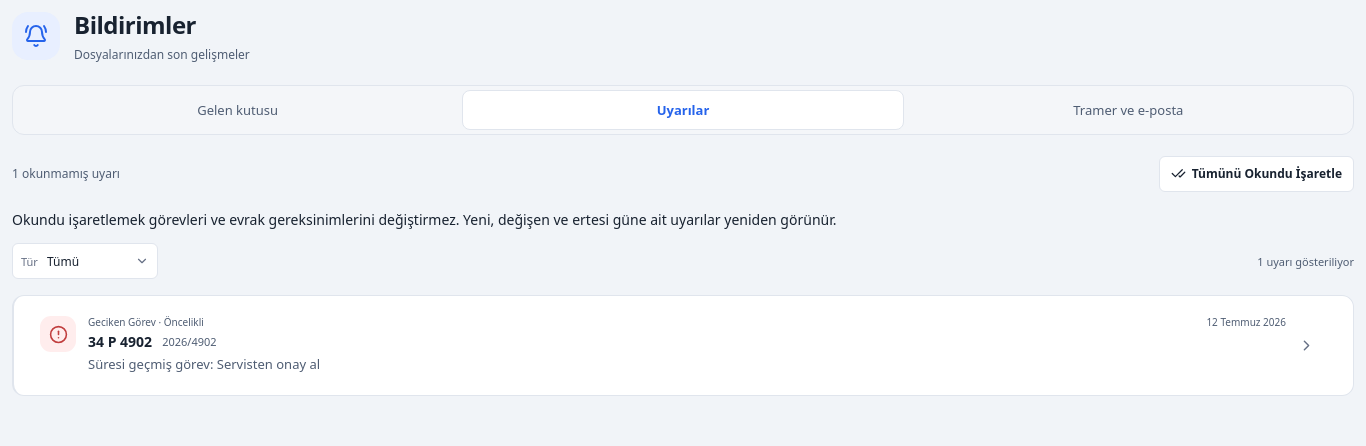
it: NotificationsPage veri kaynağı ayrımı › retains warnings and allows retry when read acknowledgement fails
Click the button "Tümünü Okundu İşaretle" at coordinates (1256, 174), box [1159,156,1354,192]
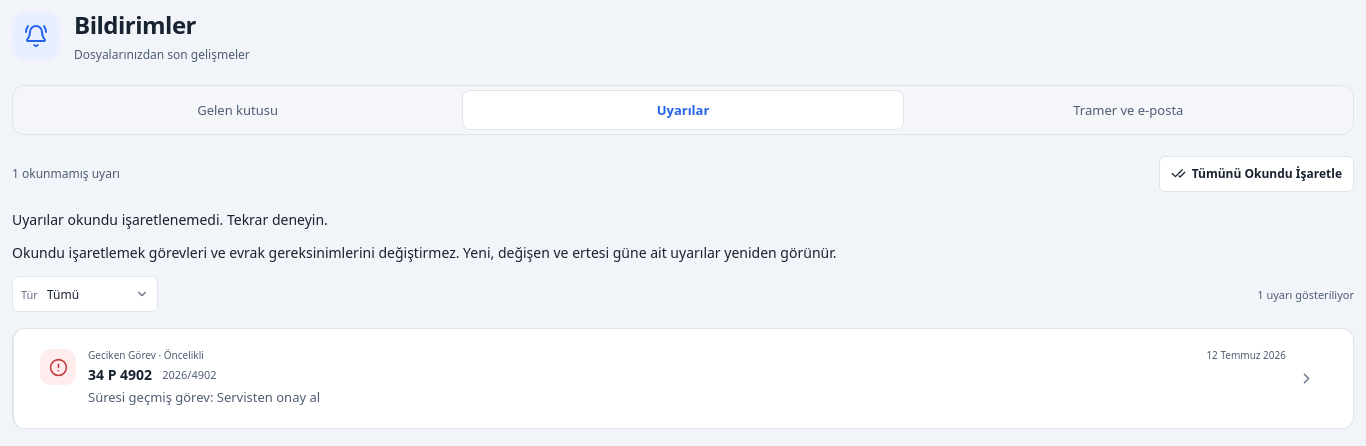
Expected: the text "Süresi geçmiş görev: Servisten onay al" is shown, [88,388,320,406]
Result: the message "Uyarılar okundu işaretlenemedi. Tekrar deneyin." is shown at [12,210,328,229]
